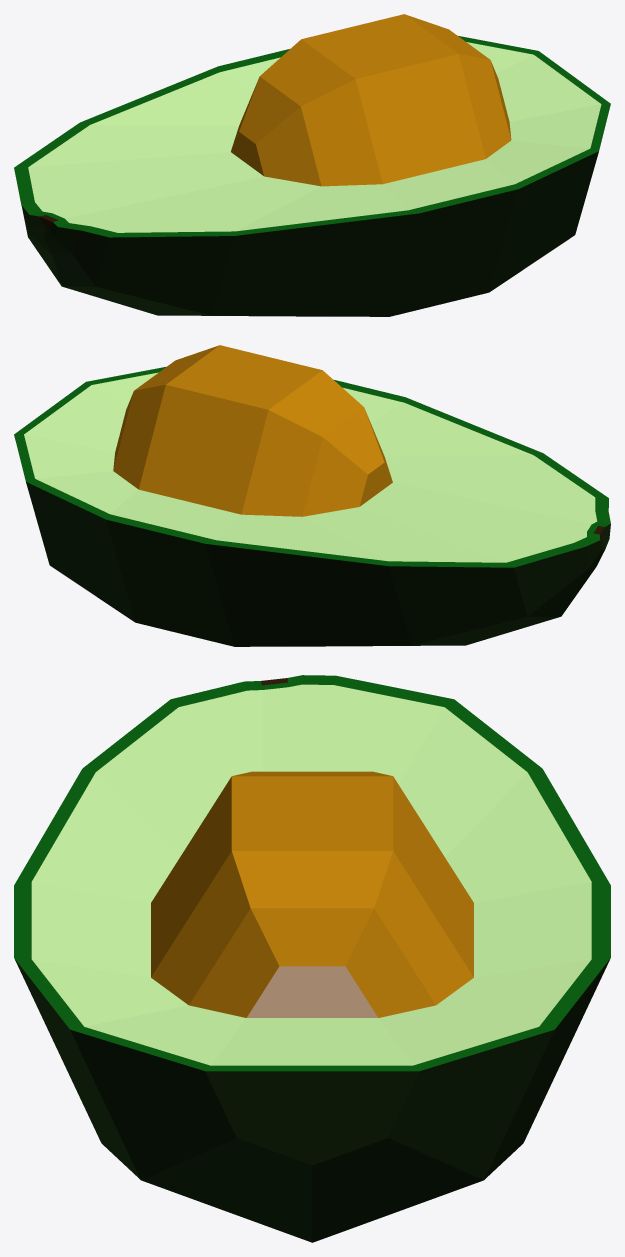
The model's file is avocado02.obj.
The picture shows the model from 3 angles, top to bottom: view 1: azimuth 30°, elevation 25°; view 2: azimuth 150°, elevation 25°; view 3: azimuth 270°, elevation 25°; orthographic projection. The views are drawn at different scales.
Parts seen in each view (by area): view 1: Cylinder.001; view 2: Cylinder.001; view 3: Cylinder.001.
Part boxes in pixels (left/top/right/bottom): Cylinder.001: left=14, top=14, right=610, bottom=316; Cylinder.001: left=14, top=345, right=610, bottom=646; Cylinder.001: left=14, top=675, right=610, bottom=1242.
Bounding box in the file's own units: 0.0928 × 0.0412 × 0.0588.
1 material, 1 textured.
